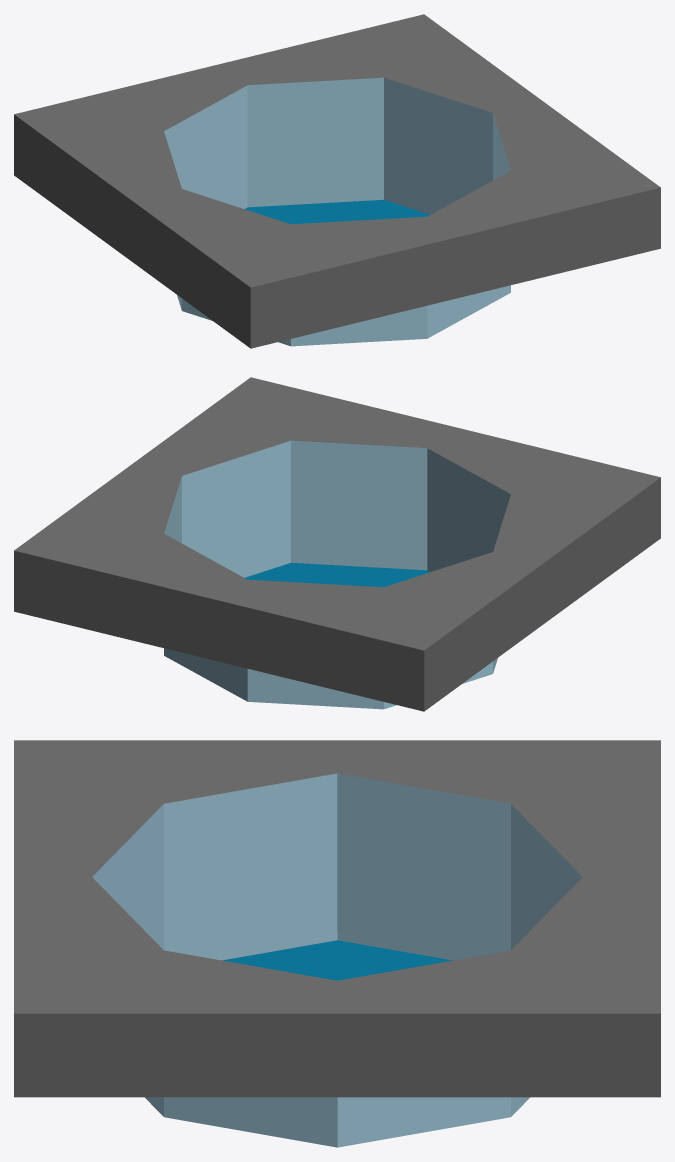
The model's file is CirclePiece.fbx.
3 views of the same model, one above another, from view 1: azimuth 30°, elevation 25°; view 2: azimuth 150°, elevation 25°; view 3: azimuth 270°, elevation 25° (orthographic). The views are drawn at different scales.
Visible parts, largest first — view 1: CirclePiece; view 2: CirclePiece; view 3: CirclePiece.
Part boxes in pixels (x1,y1,x2,y2): CirclePiece: (14, 14, 660, 348); CirclePiece: (14, 377, 660, 711); CirclePiece: (14, 740, 660, 1147).
Bounding box in the file's own units: 2 × 0.5691 × 2.
